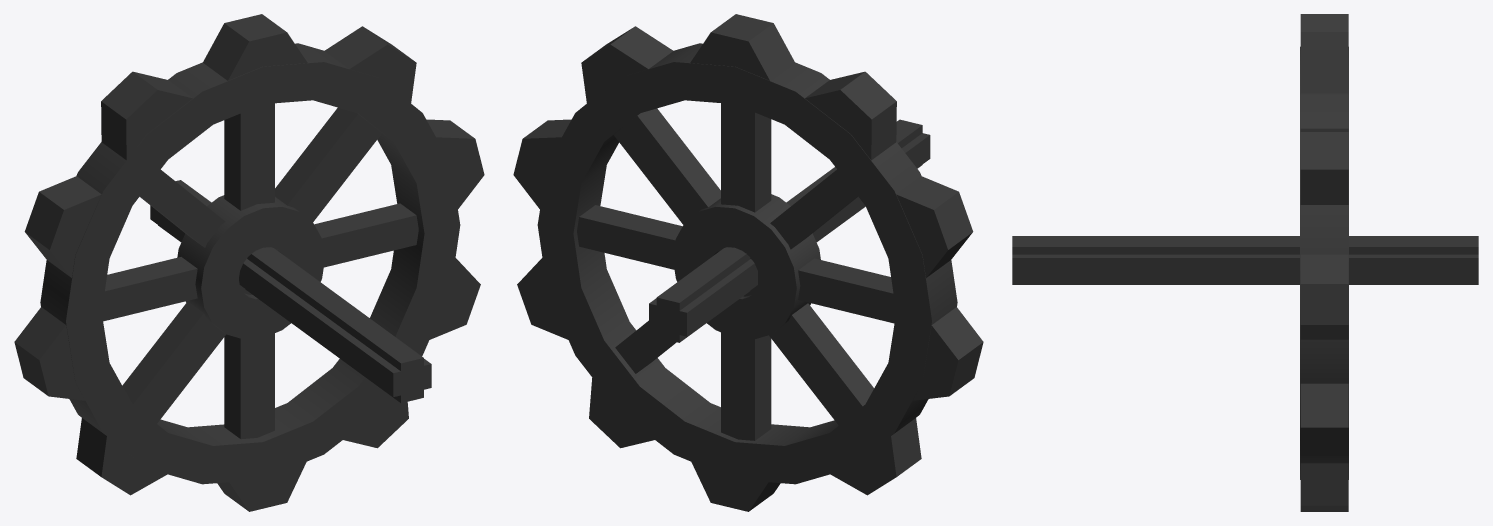
The model's file is gear1_geo.obj.
The picture shows the model from 3 angles, left to right: view 1: azimuth 30°, elevation 25°; view 2: azimuth 150°, elevation 25°; view 3: azimuth 270°, elevation 25°; orthographic projection. The views are drawn at different scales.
Visible parts, largest first — view 1: gear1_geo; view 2: gear1_geo; view 3: gear1_geo.
Boxes of the visible parts, left/top/right/bottom form: gear1_geo: left=14, top=14, right=484, bottom=511; gear1_geo: left=513, top=14, right=983, bottom=511; gear1_geo: left=1012, top=14, right=1478, bottom=511.
Size of the model in its own units: 0.1568 by 0.1584 by 0.1483.
